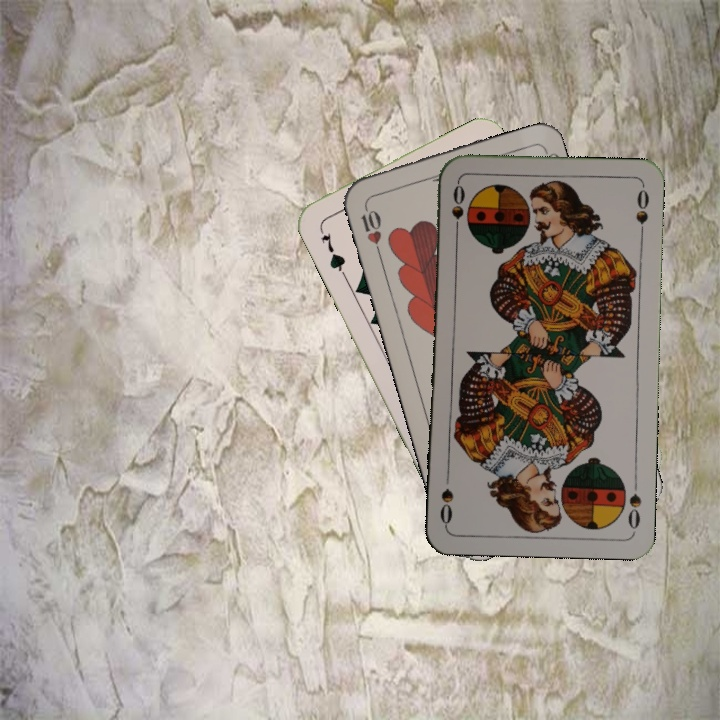G7: (315, 223, 349, 278)
H10: (356, 199, 384, 257)
SO: (623, 474, 644, 532), (448, 179, 467, 238)
